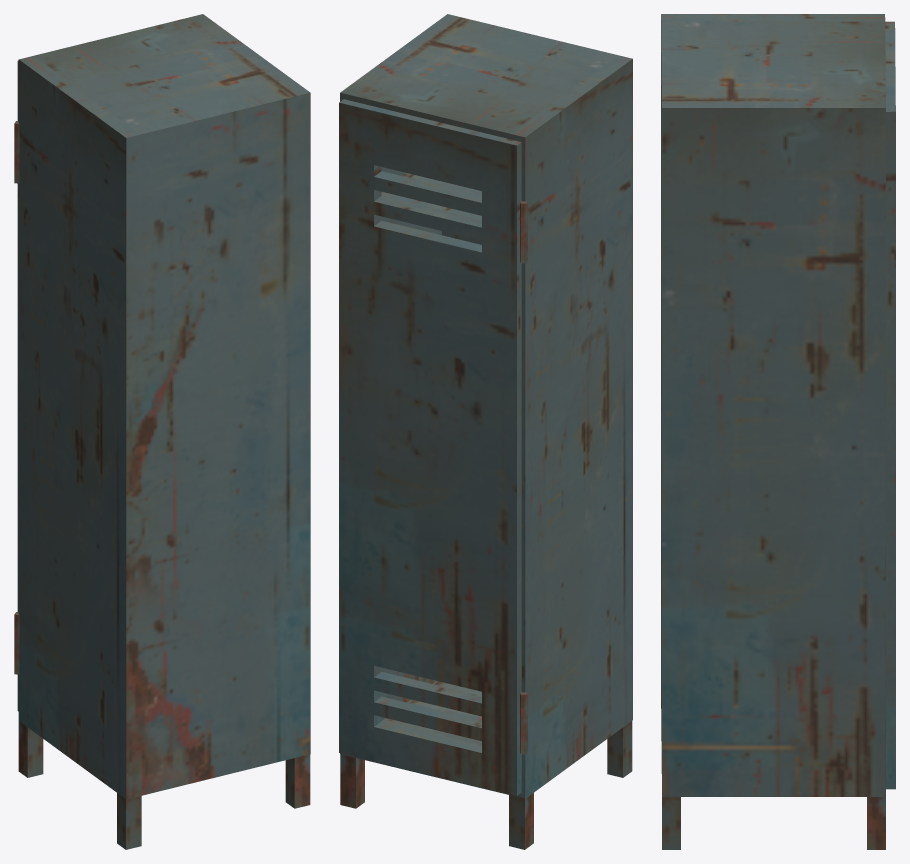
The model's file is Locker.fbx.
3 renders of one model, left to right at view 1: azimuth 30°, elevation 25°; view 2: azimuth 150°, elevation 25°; view 3: azimuth 270°, elevation 25°, orthographic. The views are drawn at different scales.
Visible parts, largest first — view 1: Locker, Locker_D; view 2: Locker_D, Locker; view 3: Locker, Locker_D.
Boxes of the visible parts, x1,y1,x2,y2 form: Locker: [18, 14, 310, 849]; Locker_D: [14, 60, 19, 711]; Locker_D: [339, 99, 527, 795]; Locker: [340, 14, 632, 849]; Locker: [661, 14, 885, 849]; Locker_D: [885, 21, 895, 789].
Size of the model in its own units: 65.27 by 236 by 67.74.
